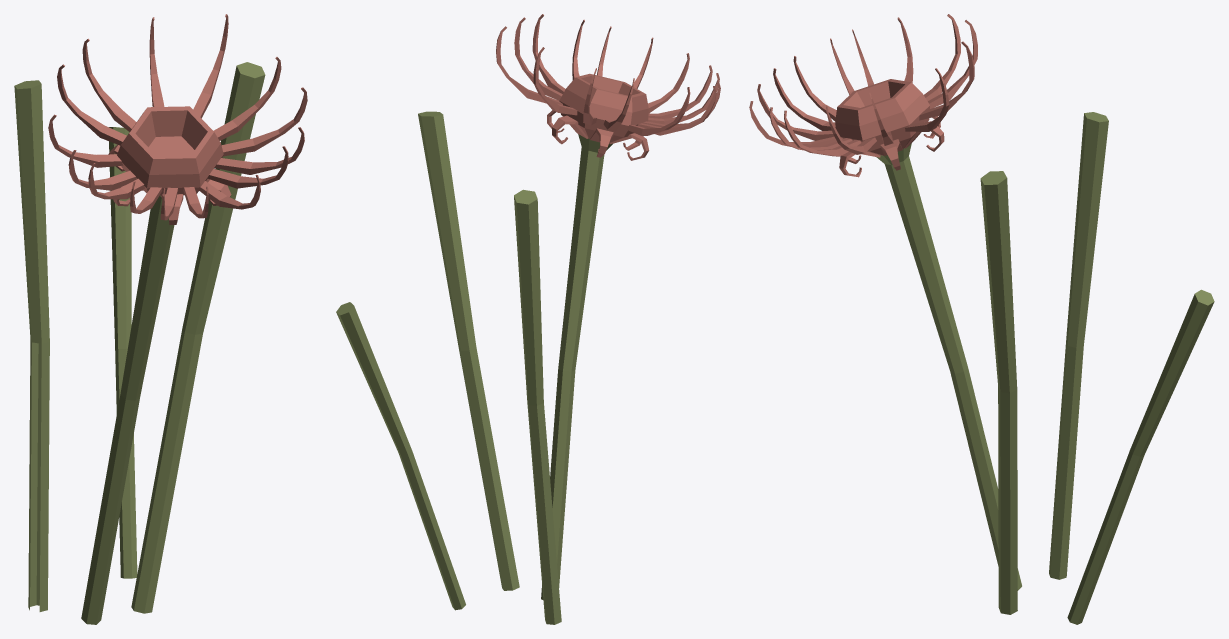
File: red_lily_2.fbx
3 views of the same model, side by side, from view 1: azimuth 30°, elevation 25°; view 2: azimuth 150°, elevation 25°; view 3: azimuth 270°, elevation 25° (orthographic). The views are drawn at different scales.
Parts seen in each view (by area): view 1: red_lily4; view 2: red_lily4; view 3: red_lily4.
Part boxes in pixels (left/top/right/bottom): red_lily4: left=14, top=14, right=307, bottom=624; red_lily4: left=336, top=14, right=720, bottom=624; red_lily4: left=749, top=14, right=1214, bottom=624.
Bounding box in the file's own units: 0.3337 × 0.7303 × 0.5454.
